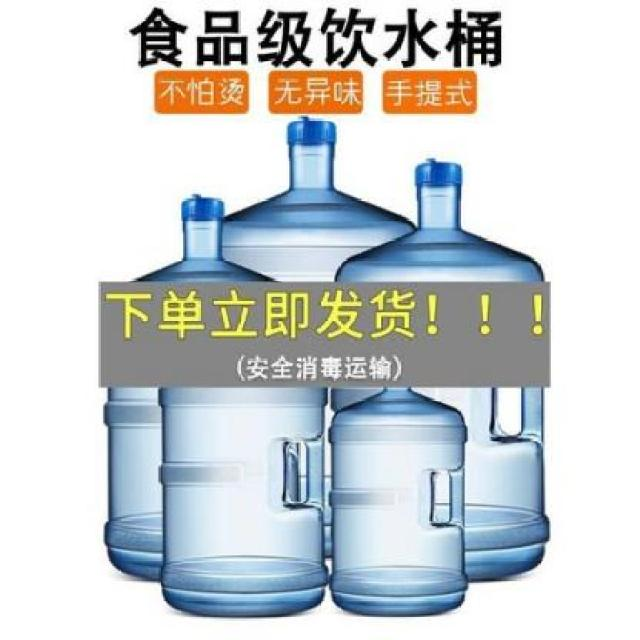coolerbottle: (326, 388, 476, 619)
